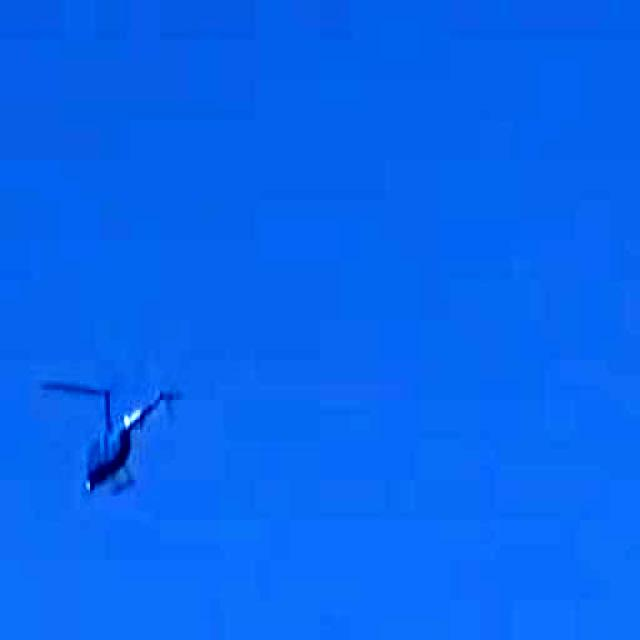drone: (29, 351, 215, 542)
